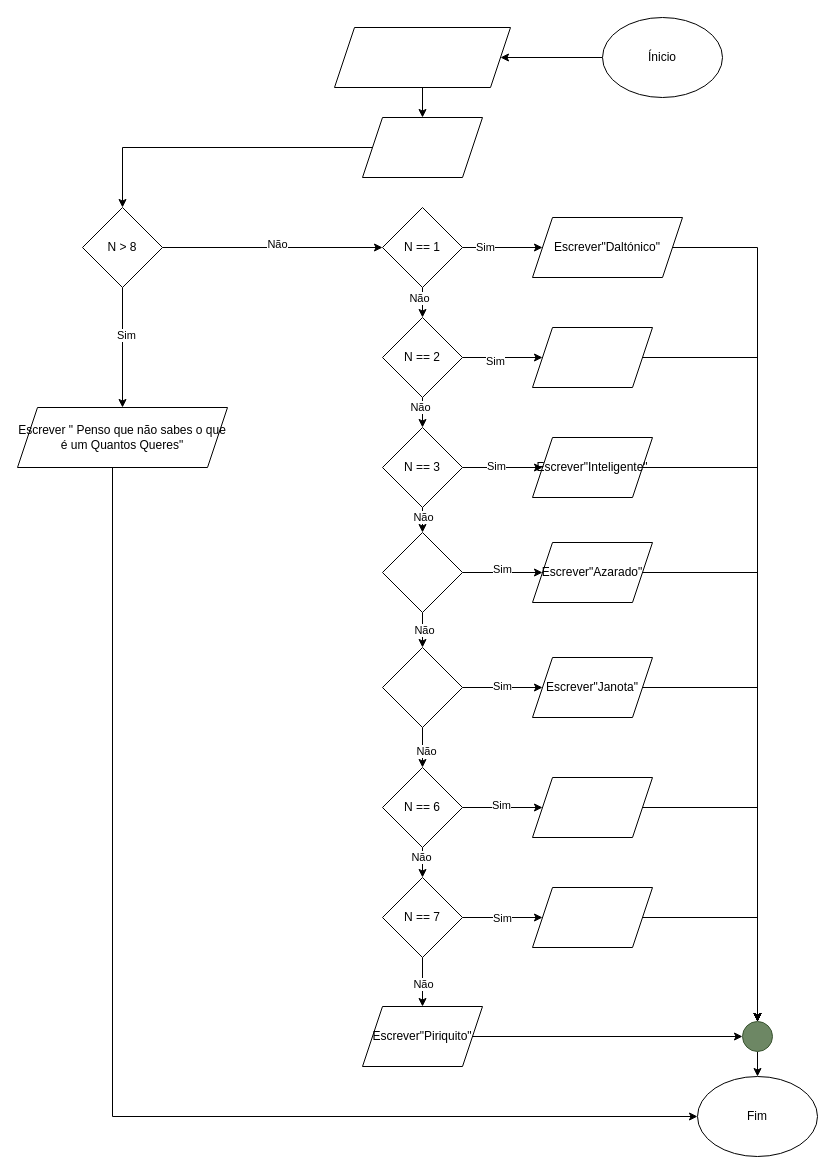
Some shapes in this 835 by 1174 pixel diagram are drawn without their labels. The box of each missing label's shape, as (x1, y1, x2, y2) in pixels:
Escrever "Quantos Queres": (334, 26, 510, 88)
Escrever"Cego": (532, 776, 652, 838)
Escrever"Lunático": (532, 886, 652, 948)
Escrever"Suricata": (532, 326, 652, 388)
Ler N: (362, 116, 482, 178)
N == 4: (382, 532, 462, 612)
N == 5: (382, 646, 462, 728)
